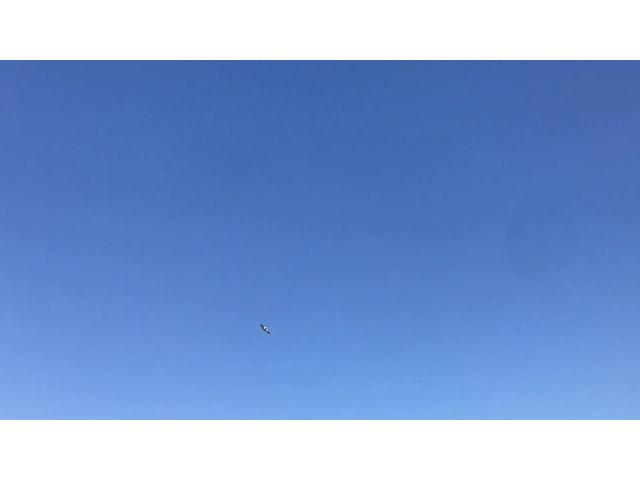Anti-Drone: (258, 316, 284, 337)
